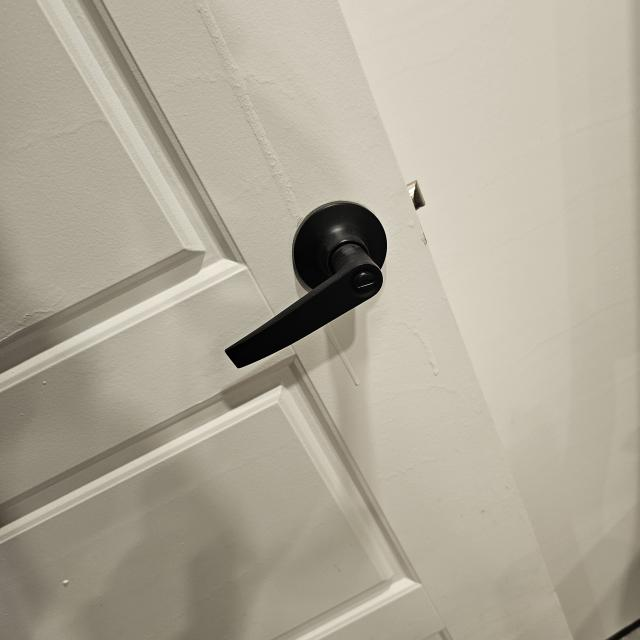door-handle: (226, 201, 388, 368)
